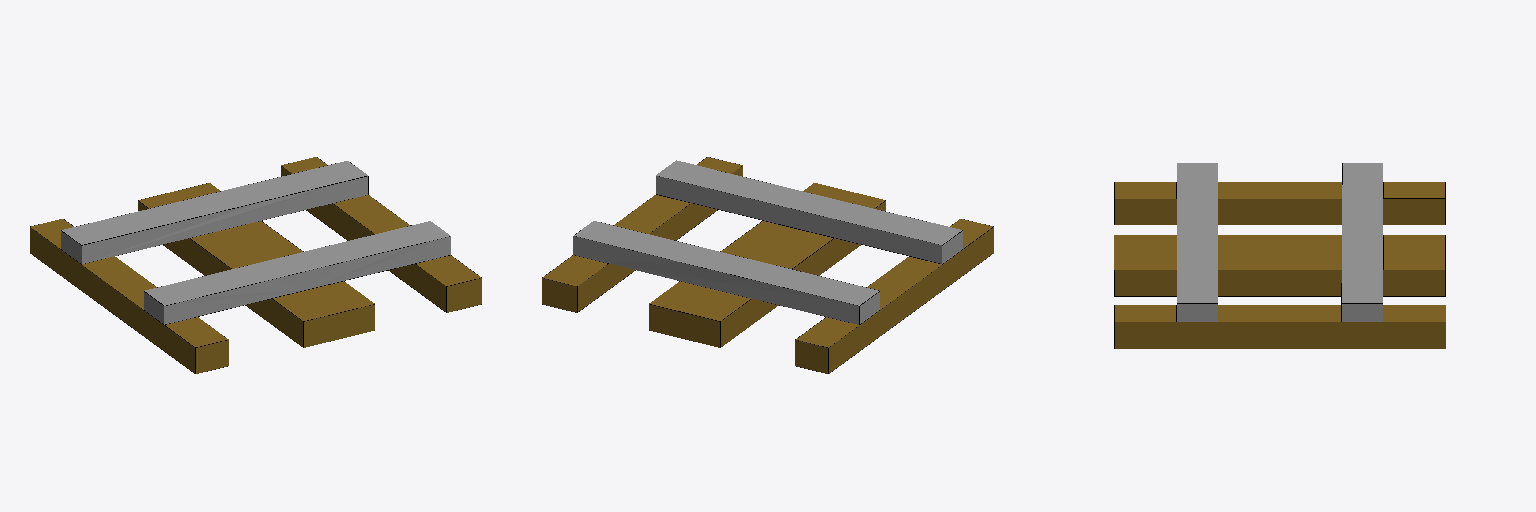
3 views of the same model, side by side, from view 1: azimuth 30°, elevation 25°; view 2: azimuth 150°, elevation 25°; view 3: azimuth 270°, elevation 25° (orthographic).
Visible parts, largest first — view 1: rail_Cube; view 2: rail_Cube; view 3: rail_Cube.
Boxes of the visible parts, box(x1,y1,x2,y2) form: rail_Cube: box(30, 157, 481, 373); rail_Cube: box(542, 157, 993, 373); rail_Cube: box(1114, 163, 1445, 348).
Bounding box in the file's own units: 2 × 0.3049 × 2.
1 materials, 1 textured.